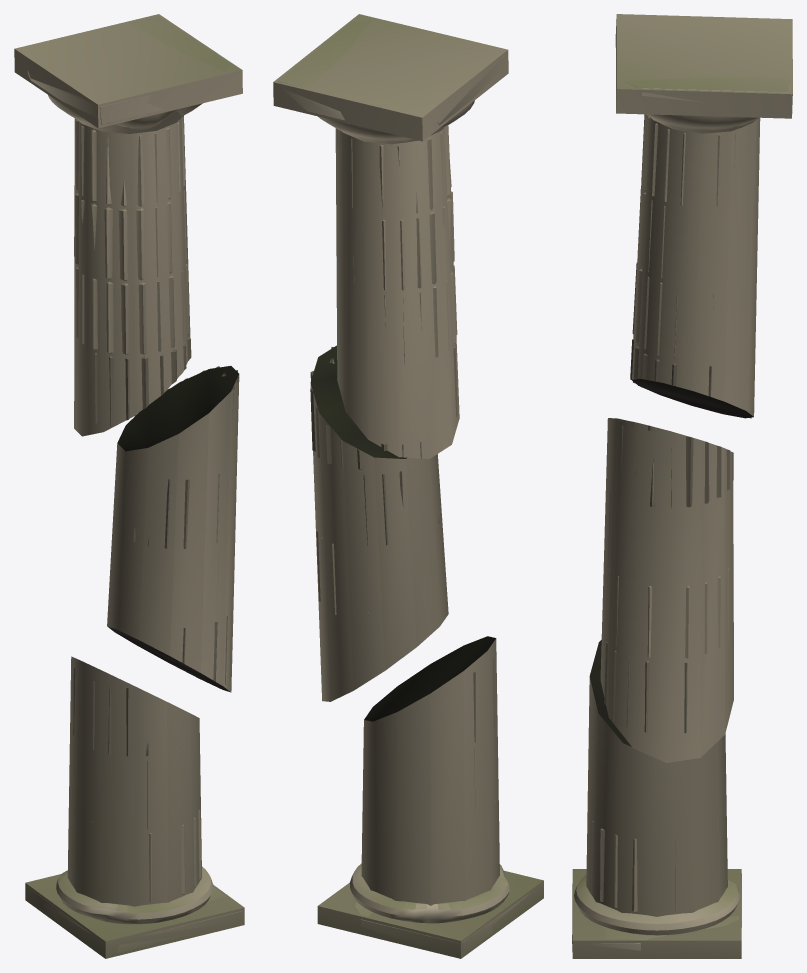
Rendered from column_cracked_wide.glb.
3 renders of one model, left to right at view 1: azimuth 30°, elevation 25°; view 2: azimuth 150°, elevation 25°; view 3: azimuth 270°, elevation 25°, orthographic. The views are drawn at different scales.
Parts seen in each view (by area): view 1: column_cracked_wide_far, column_cracked_wide; view 2: column_cracked_wide_far, column_cracked_wide; view 3: column_cracked_wide_far, column_cracked_wide.
Part boxes in pixels (box(x1,y1,x2,y2)): column_cracked_wide_far: box(14, 14, 244, 958); column_cracked_wide: box(26, 15, 241, 953); column_cracked_wide_far: box(273, 14, 543, 958); column_cracked_wide: box(278, 20, 530, 955); column_cracked_wide_far: box(572, 14, 792, 958); column_cracked_wide: box(572, 19, 789, 951).
Bounding box in the file's own units: 6.2 × 28.7 × 6.52.
